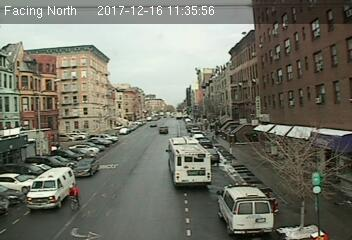bicycle: (65, 184, 82, 211)
car: (72, 159, 99, 177)
police: (216, 181, 277, 236)
truck: (25, 167, 74, 208)
